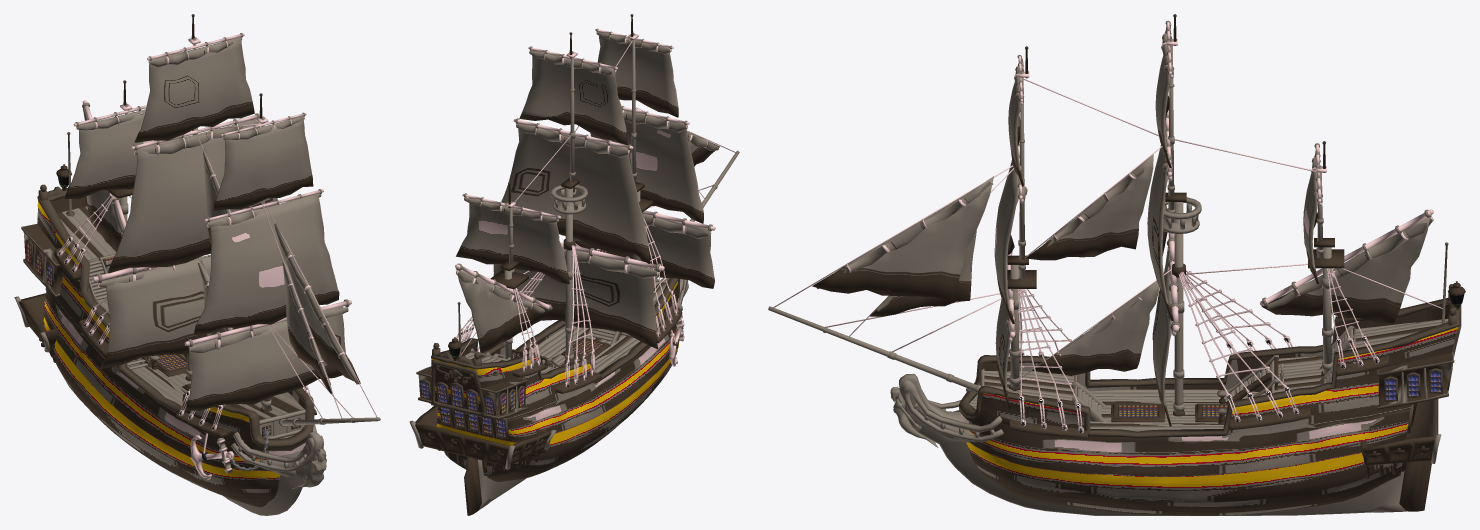
Rendered from SM_Veh_Boat_Warship_01_Hull_Upsized_Pirate.glb.
The picture shows the model from 3 angles, left to right: view 1: azimuth 30°, elevation 25°; view 2: azimuth 150°, elevation 25°; view 3: azimuth 270°, elevation 25°; orthographic projection. The views are drawn at different scales.
Visible parts, largest first — view 1: SM_Veh_Boat_Warship_01_Hull_Upsized_Pirate_00, SM_Veh_Boat_Warship_01_Hull_Upsized_Pirate_07, SM_Veh_Boat_Warship_01_Hull_Upsized_Pirate_05, SM_Veh_Boat_Warship_01_Hull_Upsized_Pirate_12, SM_Veh_Boat_Warship_01_Hull_Upsized_Pirate_09, SM_Veh_Boat_Warship_01_Hull_Upsized_Pirate_10, SM_Veh_Boat_Warship_01_Hull_Upsized_Pirate_03, SM_Veh_Boat_Warship_01_Hull_Upsized_Pirate_13, SM_Veh_Boat_Warship_01_Hull_Upsized_Pirate_04, SM_Veh_Boat_Warship_01_Hull_Upsized_Pirate_02, SM_Veh_Boat_Warship_01_Hull_Upsized_Pirate_06, SM_Veh_Boat_Warship_01_Hull_Upsized_Pirate_11 (+2 smaller); view 2: SM_Veh_Boat_Warship_01_Hull_Upsized_Pirate_00, SM_Veh_Boat_Warship_01_Hull_Upsized_Pirate_07, SM_Veh_Boat_Warship_01_Hull_Upsized_Pirate_05, SM_Veh_Boat_Warship_01_Hull_Upsized_Pirate_12, SM_Veh_Boat_Warship_01_Hull_Upsized_Pirate_06, SM_Veh_Boat_Warship_01_Hull_Upsized_Pirate_10, SM_Veh_Boat_Warship_01_Hull_Upsized_Pirate_03, SM_Veh_Boat_Warship_01_Hull_Upsized_Pirate_11, SM_Veh_Boat_Warship_01_Hull_Upsized_Pirate_04, SM_Veh_Boat_Warship_01_Hull_Upsized_Pirate_02, SM_Veh_Boat_Warship_01_Hull_Upsized_Pirate_01; view 3: SM_Veh_Boat_Warship_01_Hull_Upsized_Pirate_00, SM_Veh_Boat_Warship_01_Hull_Upsized_Pirate_08, SM_Veh_Boat_Warship_01_Hull_Upsized_Pirate_09, SM_Veh_Boat_Warship_01_Hull_Upsized_Pirate_10, SM_Veh_Boat_Warship_01_Hull_Upsized_Pirate_12, SM_Veh_Boat_Warship_01_Hull_Upsized_Pirate_06, SM_Veh_Boat_Warship_01_Hull_Upsized_Pirate_07, SM_Veh_Boat_Warship_01_Hull_Upsized_Pirate_05, SM_Veh_Boat_Warship_01_Hull_Upsized_Pirate_11, SM_Veh_Boat_Warship_01_Hull_Upsized_Pirate_04, SM_Veh_Boat_Warship_01_Hull_Upsized_Pirate_13, SM_Veh_Boat_Warship_01_Hull_Upsized_Pirate_01.
Part boxes in pixels (x1,y1,x2,y2): SM_Veh_Boat_Warship_01_Hull_Upsized_Pirate_00: [14, 132, 380, 515]; SM_Veh_Boat_Warship_01_Hull_Upsized_Pirate_07: [100, 37, 277, 369]; SM_Veh_Boat_Warship_01_Hull_Upsized_Pirate_05: [186, 116, 345, 410]; SM_Veh_Boat_Warship_01_Hull_Upsized_Pirate_12: [64, 109, 180, 251]; SM_Veh_Boat_Warship_01_Hull_Upsized_Pirate_09: [274, 223, 360, 393]; SM_Veh_Boat_Warship_01_Hull_Upsized_Pirate_10: [57, 110, 377, 430]; SM_Veh_Boat_Warship_01_Hull_Upsized_Pirate_03: [98, 37, 242, 380]; SM_Veh_Boat_Warship_01_Hull_Upsized_Pirate_13: [198, 153, 358, 384]; SM_Veh_Boat_Warship_01_Hull_Upsized_Pirate_04: [184, 93, 351, 411]; SM_Veh_Boat_Warship_01_Hull_Upsized_Pirate_02: [189, 116, 348, 352]; SM_Veh_Boat_Warship_01_Hull_Upsized_Pirate_06: [92, 14, 259, 380]; SM_Veh_Boat_Warship_01_Hull_Upsized_Pirate_11: [73, 80, 146, 276]; SM_Veh_Boat_Warship_01_Hull_Upsized_Pirate_00: [409, 150, 739, 515]; SM_Veh_Boat_Warship_01_Hull_Upsized_Pirate_07: [493, 50, 657, 348]; SM_Veh_Boat_Warship_01_Hull_Upsized_Pirate_05: [573, 31, 714, 288]; SM_Veh_Boat_Warship_01_Hull_Upsized_Pirate_12: [456, 198, 569, 352]; SM_Veh_Boat_Warship_01_Hull_Upsized_Pirate_06: [513, 32, 664, 363]; SM_Veh_Boat_Warship_01_Hull_Upsized_Pirate_10: [456, 40, 735, 387]; SM_Veh_Boat_Warship_01_Hull_Upsized_Pirate_03: [516, 50, 658, 363]; SM_Veh_Boat_Warship_01_Hull_Upsized_Pirate_11: [455, 182, 561, 359]; SM_Veh_Boat_Warship_01_Hull_Upsized_Pirate_04: [595, 14, 715, 266]; SM_Veh_Boat_Warship_01_Hull_Upsized_Pirate_02: [596, 31, 711, 238]; SM_Veh_Boat_Warship_01_Hull_Upsized_Pirate_01: [456, 197, 558, 313]; SM_Veh_Boat_Warship_01_Hull_Upsized_Pirate_00: [768, 242, 1465, 515]; SM_Veh_Boat_Warship_01_Hull_Upsized_Pirate_08: [1026, 154, 1159, 375]; SM_Veh_Boat_Warship_01_Hull_Upsized_Pirate_09: [812, 176, 993, 316]; SM_Veh_Boat_Warship_01_Hull_Upsized_Pirate_10: [773, 78, 1442, 433]; SM_Veh_Boat_Warship_01_Hull_Upsized_Pirate_12: [1261, 158, 1430, 322]; SM_Veh_Boat_Warship_01_Hull_Upsized_Pirate_06: [1163, 14, 1201, 416]; SM_Veh_Boat_Warship_01_Hull_Upsized_Pirate_07: [1147, 24, 1173, 426]; SM_Veh_Boat_Warship_01_Hull_Upsized_Pirate_05: [994, 59, 1023, 408]; SM_Veh_Boat_Warship_01_Hull_Upsized_Pirate_11: [1260, 141, 1433, 376]; SM_Veh_Boat_Warship_01_Hull_Upsized_Pirate_04: [1007, 46, 1036, 390]; SM_Veh_Boat_Warship_01_Hull_Upsized_Pirate_13: [817, 157, 1149, 356]; SM_Veh_Boat_Warship_01_Hull_Upsized_Pirate_01: [1266, 149, 1433, 309].
Bounding box in the file's own units: 21.89 × 47.26 × 59.62.
Materials: 1 (1 with a texture image).
